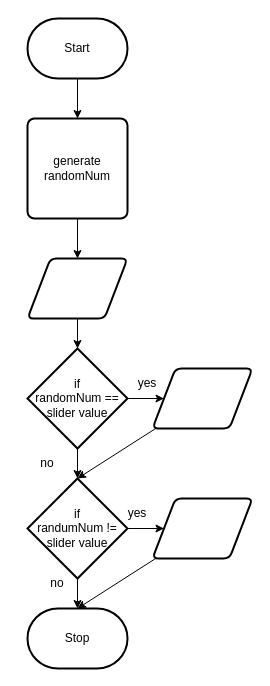
Image size: 270x686. Some labels were removed from this diagram. The shapes that lost their labels are listed below. From the top down, each one's box as (x1, y1, x2, y2) in pixels, then its label:
(26, 257, 128, 319): get slider value
(151, 367, 253, 429): got it
(151, 497, 253, 559): wrong
